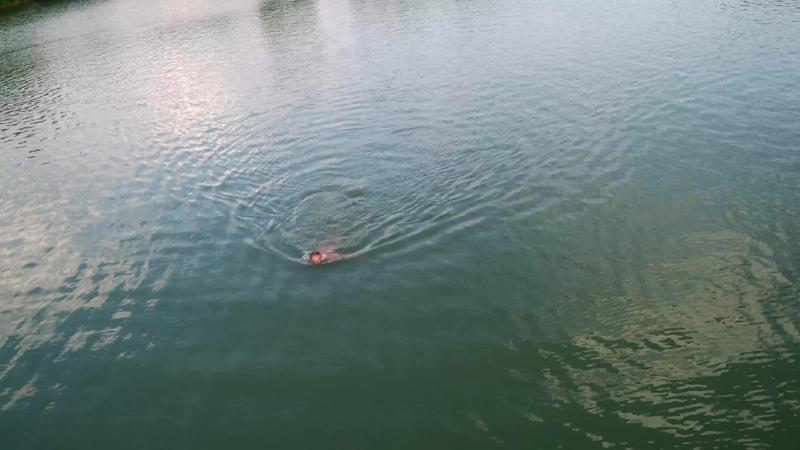passerby: (300, 232, 357, 266)
